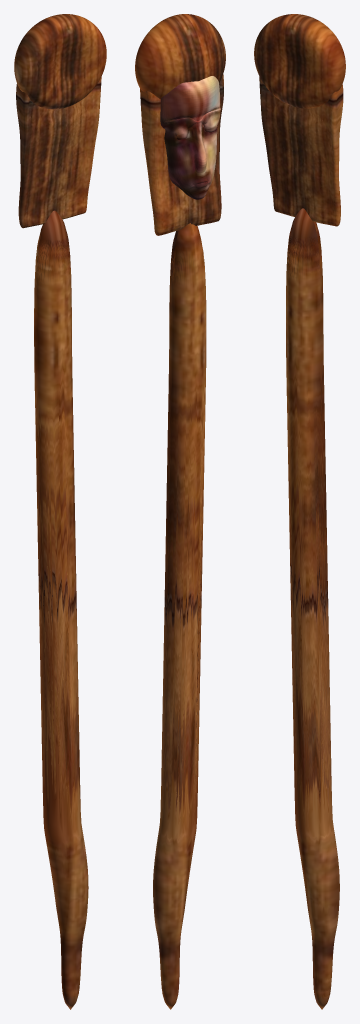
File: staff_joined.glb
3 renders of one model, left to right at view 1: azimuth 30°, elevation 25°; view 2: azimuth 210°, elevation 25°; view 3: azimuth 330°, elevation 25°, orthographic.
Visible parts, largest first — view 1: Cube.003; view 2: Cube.003; view 3: Cube.003.
Boxes of the visible parts, x1,y1,x2,y2 form: Cube.003: [14, 14, 106, 1009]; Cube.003: [135, 14, 225, 1009]; Cube.003: [254, 14, 345, 1009].
Bounding box in the file's own units: 0.4437 × 4.9 × 0.29.
2 materials, 2 textured.
